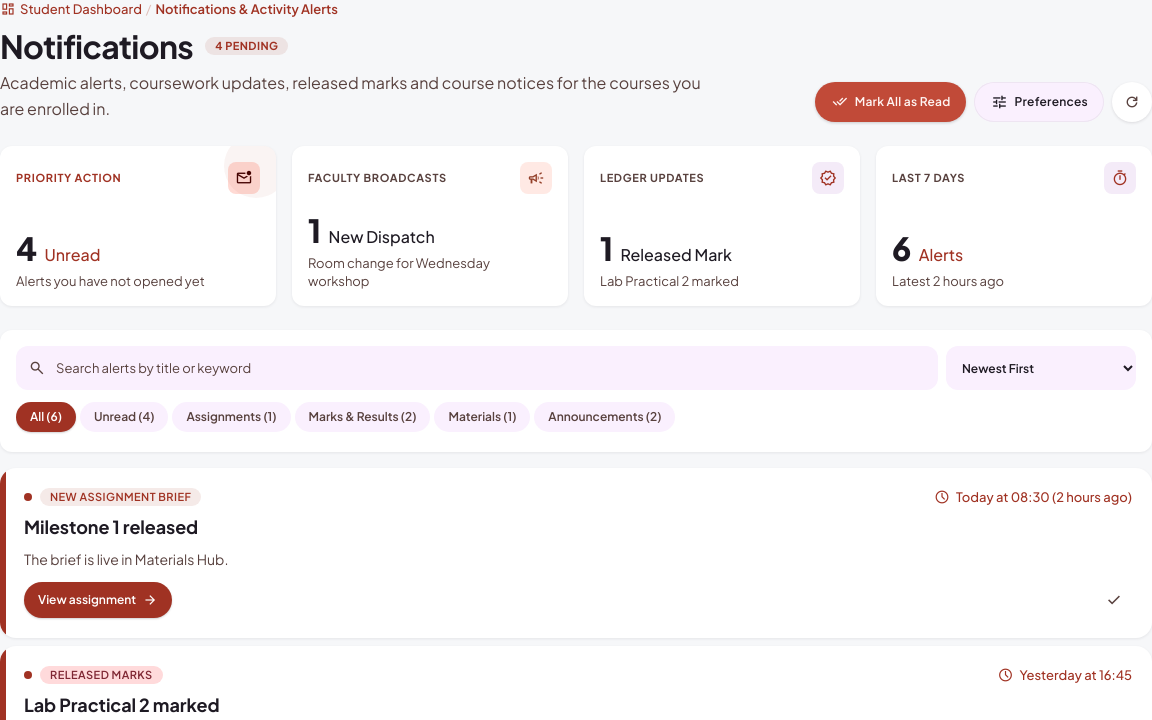
Test case: student notifications › a failed update shows the error and leaves the alert unread
Expected: the heading "Milestone 1 released" is shown, x1=24 y1=515 x2=198 y2=538
What coordinates should you click on to do the following:
click the button named "Mark as read: Milestone 1 released"
I would click on:
 (1114, 600)
Its box is x1=1096 y1=582 x2=1132 y2=618.
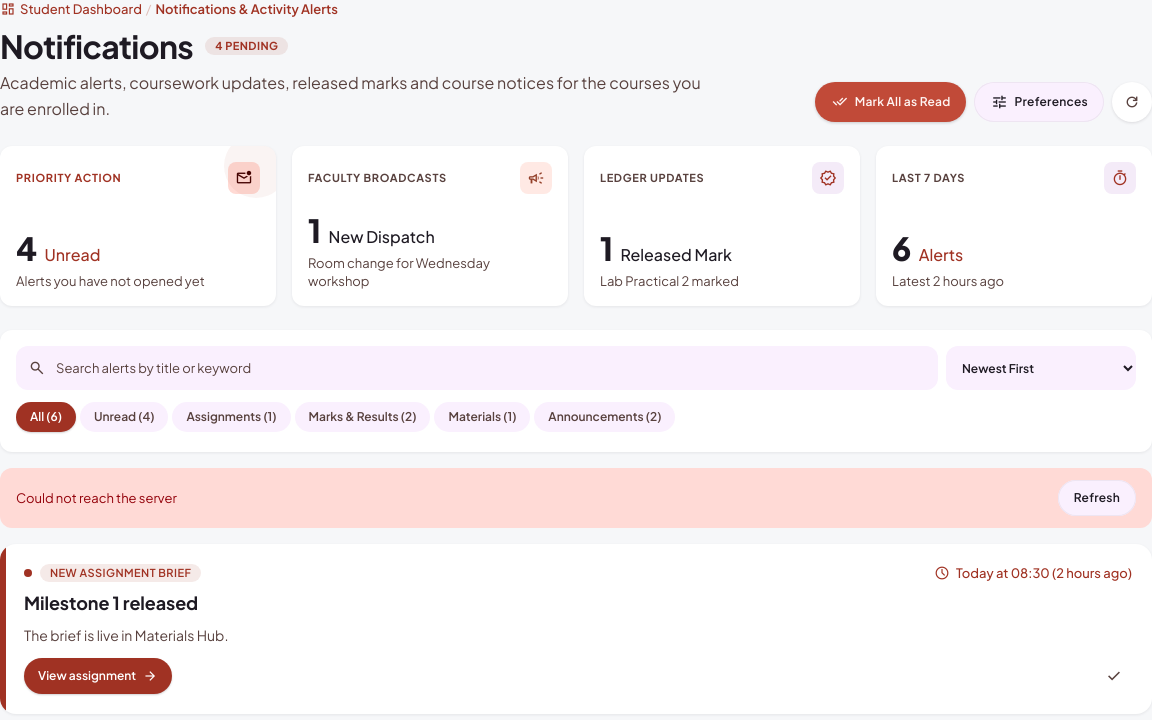
Expected: the text "4 Pending" is shown, x1=205 y1=37 x2=288 y2=55
Now the message shows "Could not reach the server", box x1=16 y1=490 x2=177 y2=506
